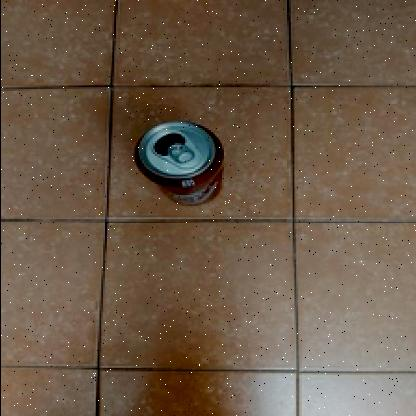Can: (134, 122, 224, 207)
